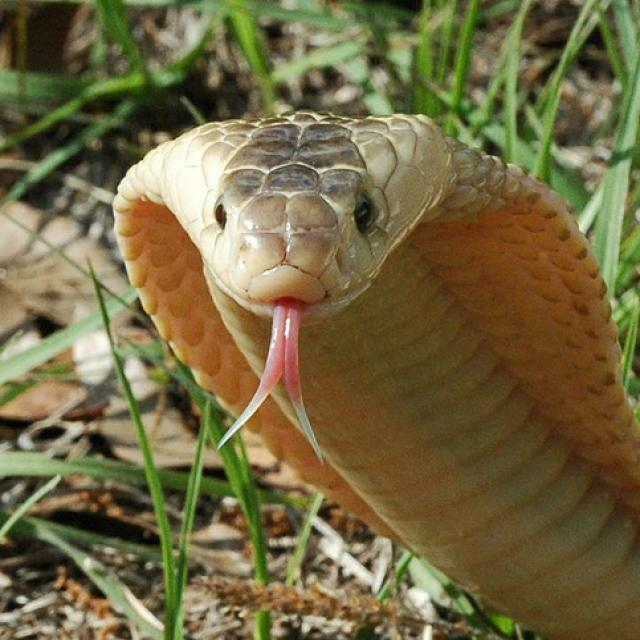Snake: (110, 107, 639, 638)
